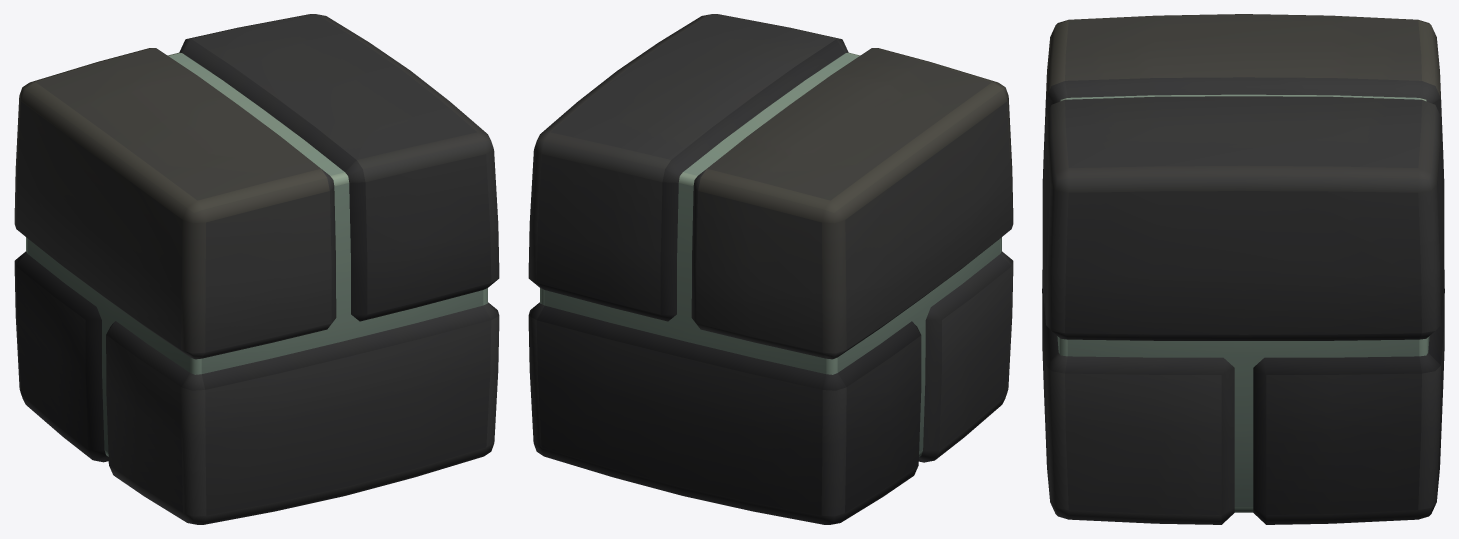
The model's file is block_brick_black_2.fbx.
The picture shows the model from 3 angles, left to right: view 1: azimuth 30°, elevation 25°; view 2: azimuth 150°, elevation 25°; view 3: azimuth 270°, elevation 25°; orthographic projection. The views are drawn at different scales.
Parts seen in each view (by area): view 1: block_brick_black_2_LOD0; view 2: block_brick_black_2_LOD0; view 3: block_brick_black_2_LOD0.
Part boxes in pixels (bbox=[...]): block_brick_black_2_LOD0: bbox=[14, 14, 499, 524]; block_brick_black_2_LOD0: bbox=[528, 14, 1013, 524]; block_brick_black_2_LOD0: bbox=[1042, 14, 1444, 524].
Size of what is drawn, in the model's own units: 109 by 109 by 109.
